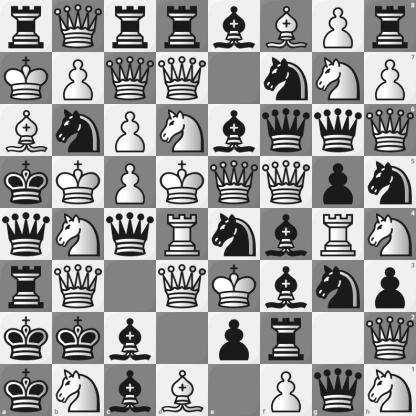B: (156, 364, 209, 416), (1, 105, 52, 156), (261, 1, 312, 52)
K: (1, 53, 52, 104), (53, 157, 104, 208), (157, 157, 208, 208), (209, 261, 260, 312)
N: (52, 364, 104, 416), (364, 364, 416, 416), (364, 209, 416, 260), (53, 209, 104, 260), (157, 105, 208, 156), (313, 53, 364, 104)
P: (260, 364, 312, 416), (364, 52, 416, 104), (53, 53, 104, 104), (105, 105, 156, 156), (105, 157, 156, 208), (313, 1, 364, 52)
Q: (364, 104, 416, 156), (364, 312, 416, 364), (53, 1, 104, 52), (53, 261, 104, 312), (105, 53, 156, 104), (157, 53, 208, 104), (157, 261, 208, 312), (209, 157, 260, 208), (261, 157, 312, 208)
R: (157, 209, 208, 260), (313, 209, 364, 260)
b: (104, 364, 156, 416), (105, 313, 156, 364), (209, 1, 260, 52), (209, 105, 260, 156), (261, 209, 312, 260), (261, 261, 312, 312)
board: (0, 0, 415, 415)
k: (0, 364, 52, 416), (1, 157, 52, 208), (1, 313, 52, 364), (53, 313, 104, 364)
n: (364, 156, 416, 209), (53, 105, 104, 156), (209, 209, 260, 260), (261, 53, 312, 104), (313, 261, 364, 312)
p: (364, 260, 416, 312), (209, 313, 260, 364), (313, 157, 364, 208)
q: (312, 364, 364, 416), (1, 209, 52, 260), (105, 209, 156, 260), (261, 105, 312, 156), (313, 105, 364, 156)
r: (364, 0, 416, 52), (1, 1, 52, 52), (1, 261, 52, 312), (105, 1, 156, 52), (157, 1, 208, 52), (261, 313, 312, 364)
